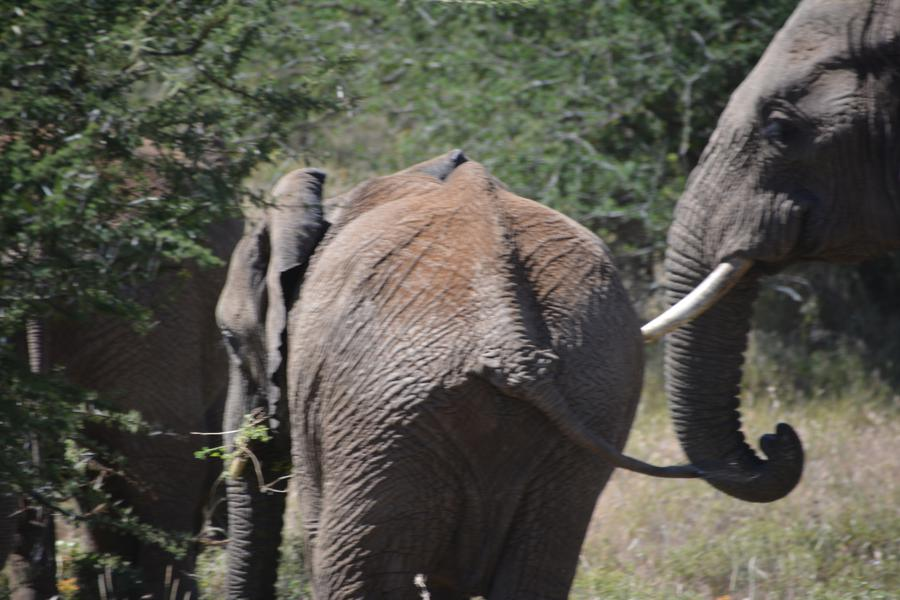elephant: (235, 170, 583, 594), (641, 2, 898, 492)
